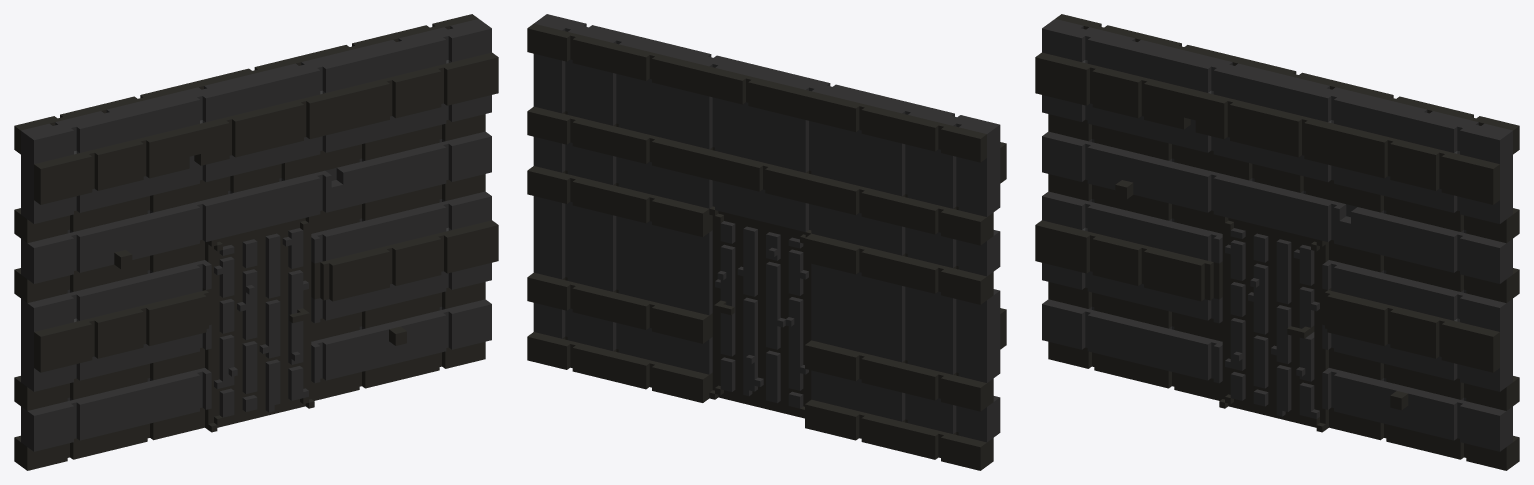
Rendered from WallDoorStone.obj.
3 renders of one model, left to right at view 1: azimuth 30°, elevation 25°; view 2: azimuth 150°, elevation 25°; view 3: azimuth 330°, elevation 25°, orthographic.
Size of the model in its own units: 8 by 5.6 by 0.8.
1 material, 1 textured.
